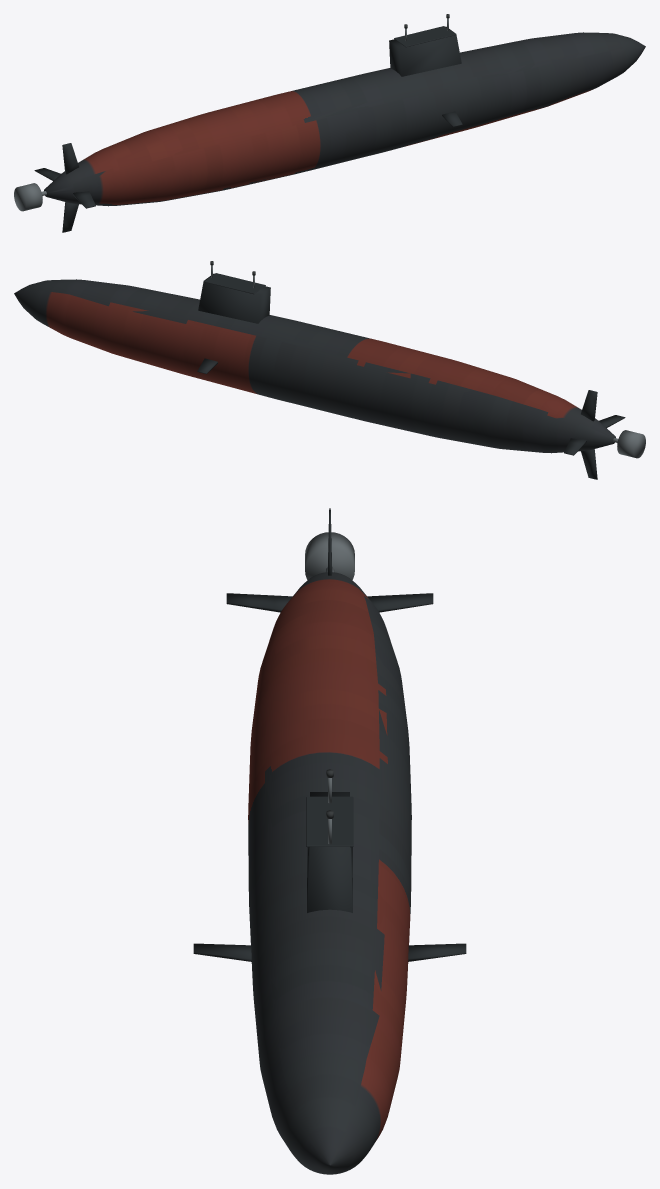
File: CN_SSN_Type095_LOD1.fbx
3 renders of one model, top to bottom at view 1: azimuth 30°, elevation 25°; view 2: azimuth 150°, elevation 25°; view 3: azimuth 270°, elevation 25°, orthographic. The views are drawn at different scales.
Visible parts, largest first — view 1: CN_SSN_Type095_LOD1; view 2: CN_SSN_Type095_LOD1; view 3: CN_SSN_Type095_LOD1.
Boxes of the visible parts, x1,y1,x2,y2 form: CN_SSN_Type095_LOD1: (14,14,645,232); CN_SSN_Type095_LOD1: (14,261,645,479); CN_SSN_Type095_LOD1: (193,508,466,1174).
Bounding box in the file's own units: 115 × 21.65 × 21.71.
6 materials, 1 textured.
